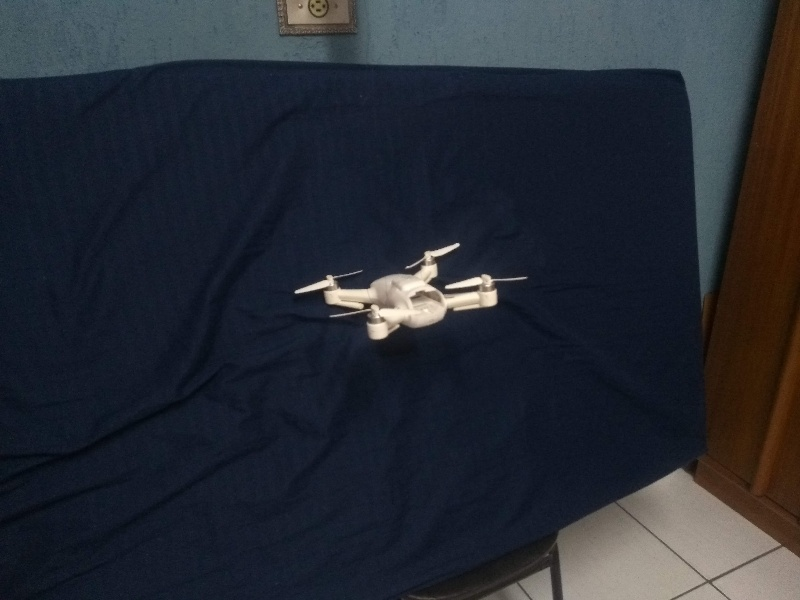drone: (289, 237, 528, 341)
